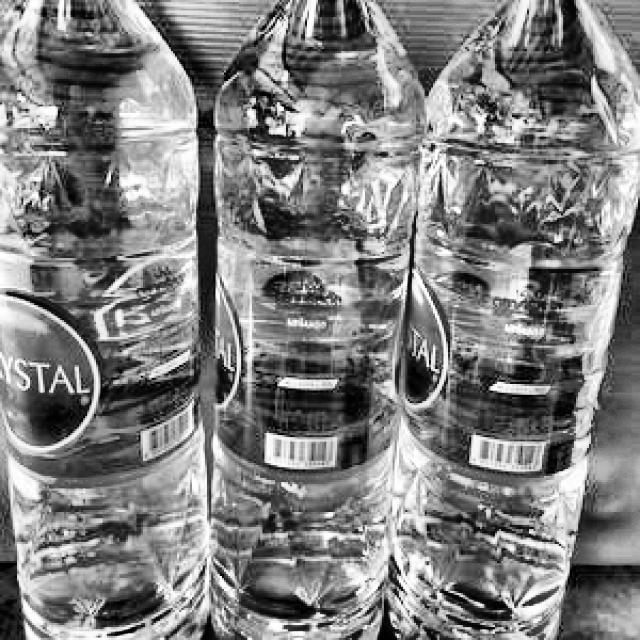waterbottle: (374, 0, 640, 640), (204, 0, 434, 640), (0, 0, 218, 640)
